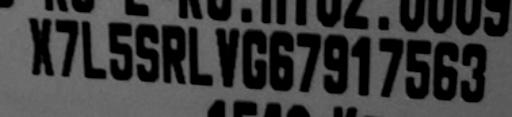letter: (104, 18, 134, 87), (132, 21, 162, 86), (266, 27, 296, 92), (376, 36, 406, 101), (432, 38, 460, 107), (322, 32, 352, 95), (80, 17, 108, 82), (160, 22, 188, 87), (187, 23, 215, 88), (242, 26, 270, 91), (294, 29, 322, 94), (460, 41, 488, 106), (26, 14, 54, 77), (214, 24, 240, 91), (404, 38, 432, 99), (54, 17, 80, 82), (349, 33, 373, 98)
